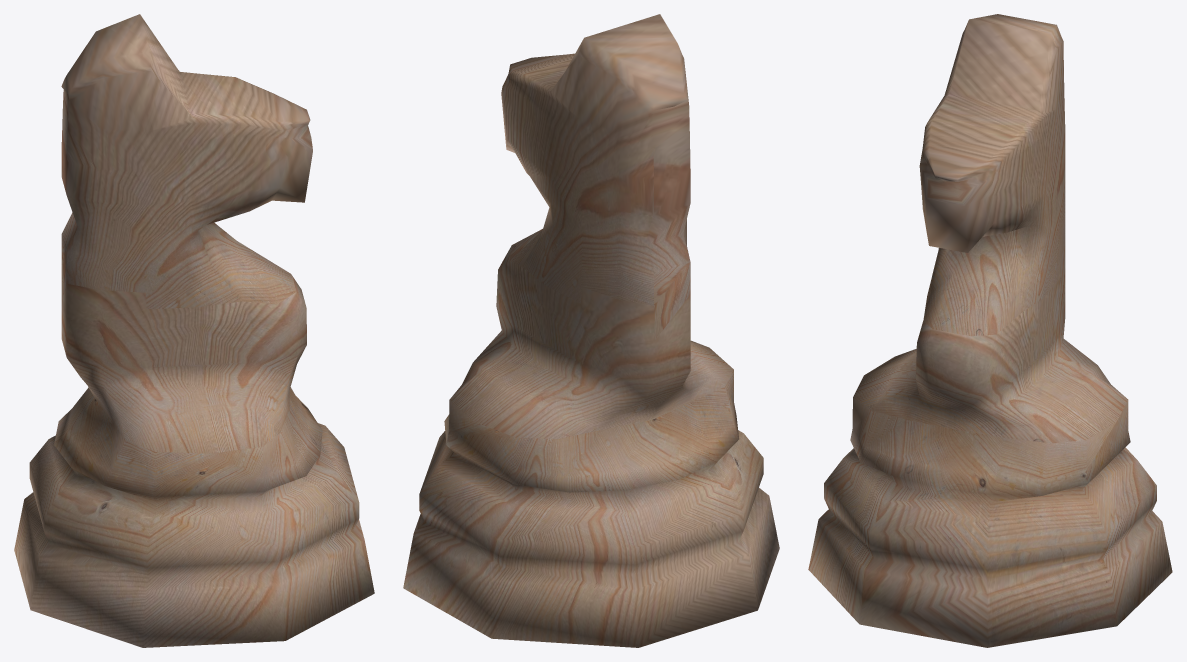
3 renders of one model, left to right at view 1: azimuth 30°, elevation 25°; view 2: azimuth 150°, elevation 25°; view 3: azimuth 270°, elevation 25°, orthographic. The views are drawn at different scales.
Parts seen in each view (by area): view 1: WhiteKnight.001; view 2: WhiteKnight.001; view 3: WhiteKnight.001.
Part boxes in pixels (left/top/right/bottom): WhiteKnight.001: left=14, top=14, right=374, bottom=647; WhiteKnight.001: left=403, top=14, right=779, bottom=647; WhiteKnight.001: left=808, top=14, right=1172, bottom=647.
Size of the model in its own units: 0.0297 by 0.0472 by 0.0297.
Materials: 1 (1 with a texture image).
